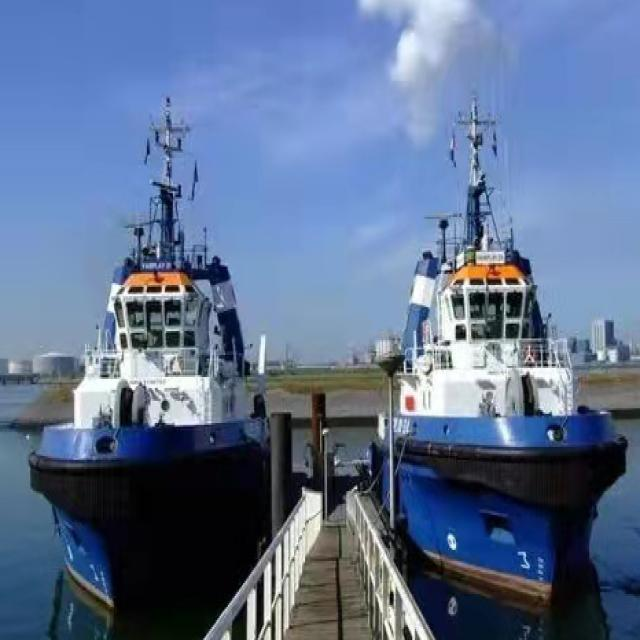houseboat: (374, 110, 627, 594), (35, 92, 279, 588)
